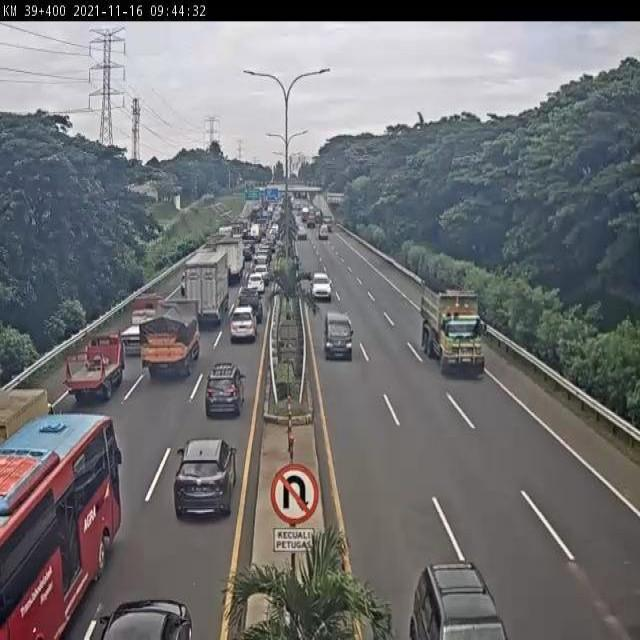car: (174, 440, 236, 523), (205, 362, 242, 414), (324, 311, 354, 358), (228, 310, 258, 346), (235, 296, 262, 332), (310, 270, 332, 302), (247, 274, 266, 294)
small truck: (67, 333, 125, 399), (117, 293, 163, 356)
truck-l-: (419, 284, 488, 372), (183, 252, 226, 328)
truck-m-: (136, 305, 196, 383), (212, 236, 244, 284)
